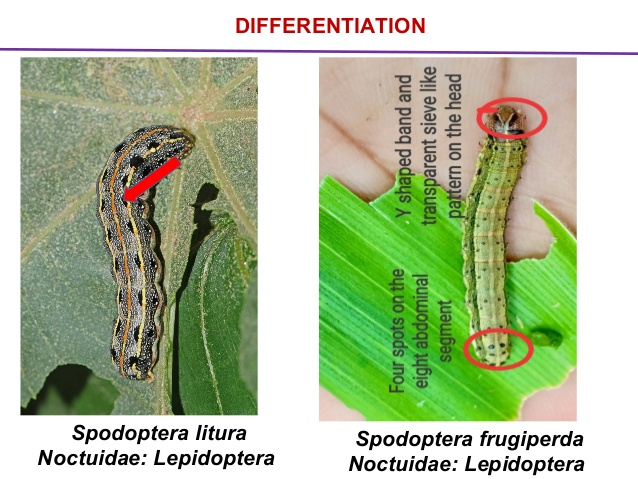Armyworm: (89, 106, 193, 396), (466, 86, 551, 377)
